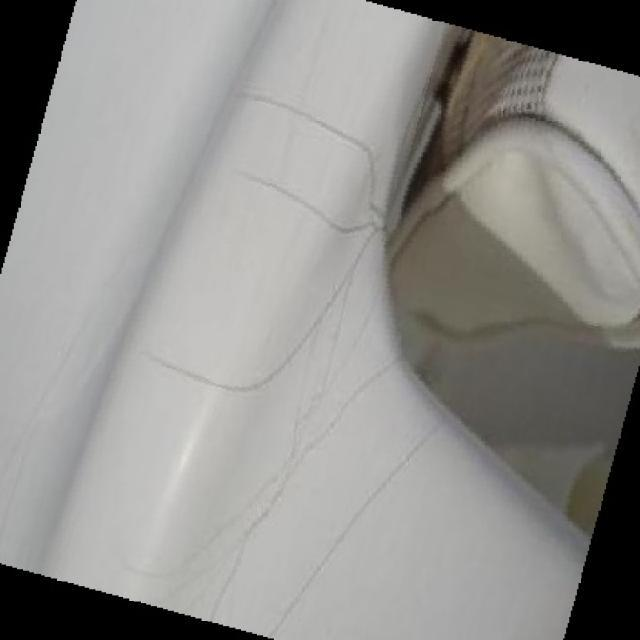crack: (230, 80, 390, 168), (220, 176, 349, 242), (150, 338, 258, 414)
